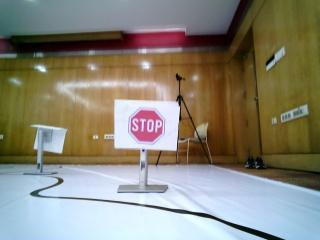stop: (114, 104, 178, 145)
